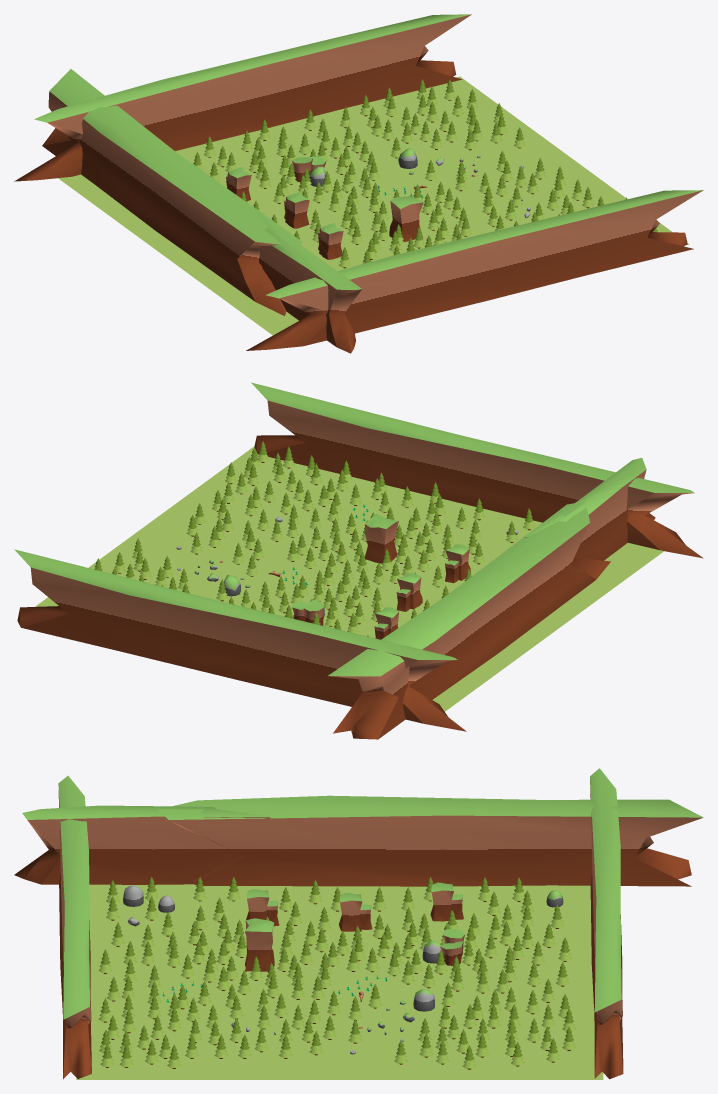
The model's file is finalMap.glb.
3 renders of one model, top to bottom at view 1: azimuth 30°, elevation 25°; view 2: azimuth 150°, elevation 25°; view 3: azimuth 270°, elevation 25°, orthographic. The views are drawn at different scales.
Visible parts, largest first — view 1: Plane, Ground.008, Ground.005, Ground.011, Ground.003, Ground.018, Ground.004, Ground.007, Ground.006; view 2: Plane, Ground.005, Ground.008, Ground.011, Ground.003, Ground.018, Ground.004, Ground.007, Ground.006, Ground.001; view 3: Plane, Ground.011, Ground.003, Ground.005, Ground.008, Ground.018, Ground.004, Ground.006, Ground.007, Ground.001.
Boxes of the visible parts, x1,y1,x2,y2 form: Plane: (58,76,689,335); Ground.008: (246,190,703,350); Ground.005: (14,14,471,181); Ground.011: (42,69,302,315); Ground.003: (255,208,361,353); Ground.018: (389,195,423,241); Ground.004: (284,191,309,228); Ground.007: (318,223,343,259); Ground.006: (226,167,251,201); Plane: (35,447,663,711); Ground.005: (14,549,466,731); Ground.008: (251,382,703,558); Ground.011: (328,501,610,739); Ground.003: (523,458,655,560); Ground.018: (364,513,398,563); Ground.004: (396,573,422,611); Ground.007: (445,544,470,583); Ground.006: (374,607,398,639); Ground.001: (292,601,323,625); Plane: (76,884,603,1079); Ground.011: (158,795,703,886); Ground.003: (14,805,270,884); Ground.005: (590,768,623,1079); Ground.008: (58,776,91,1079); Ground.018: (245,918,274,971); Ground.004: (339,892,372,931); Ground.006: (430,882,464,921); Ground.007: (246,889,279,926); Ground.001: (440,929,464,965).
Bounding box in the file's own units: 137 × 19.11 × 158.
215 materials, 215 textured.
